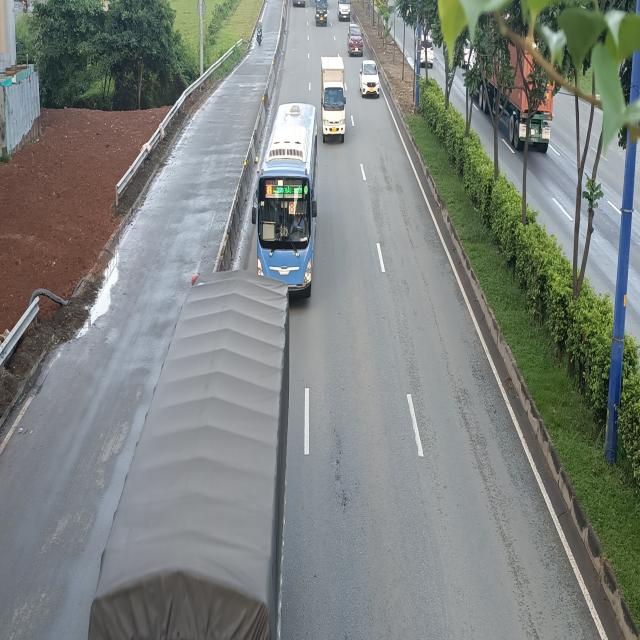car: (358, 58, 380, 97)
coach: (253, 105, 319, 300)
truck: (72, 271, 290, 640), (324, 54, 349, 140)
